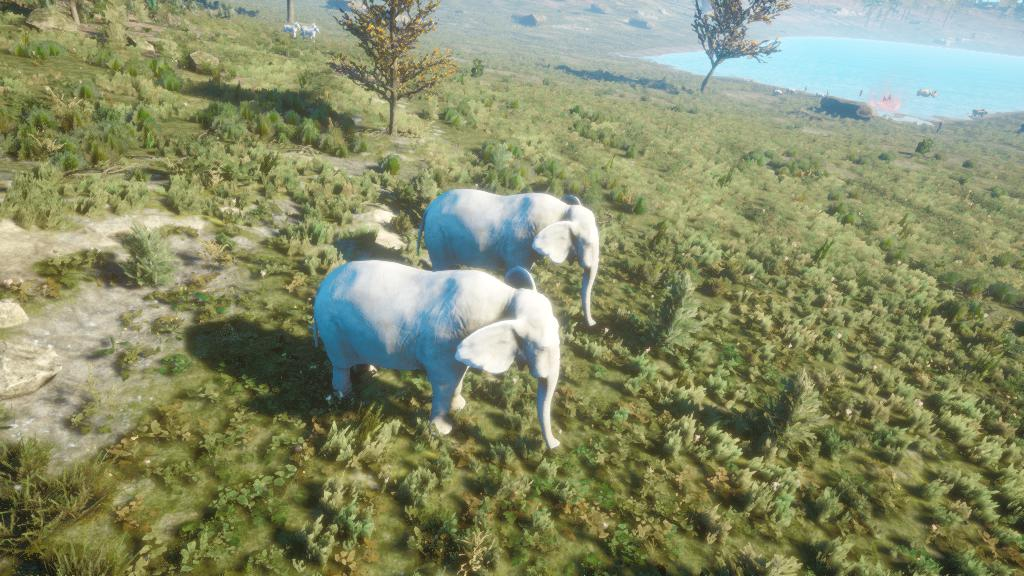elephant: (312, 256, 561, 457), (422, 179, 627, 267)
